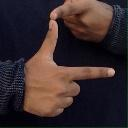hand: (22, 19, 115, 117), (49, 0, 113, 42)
